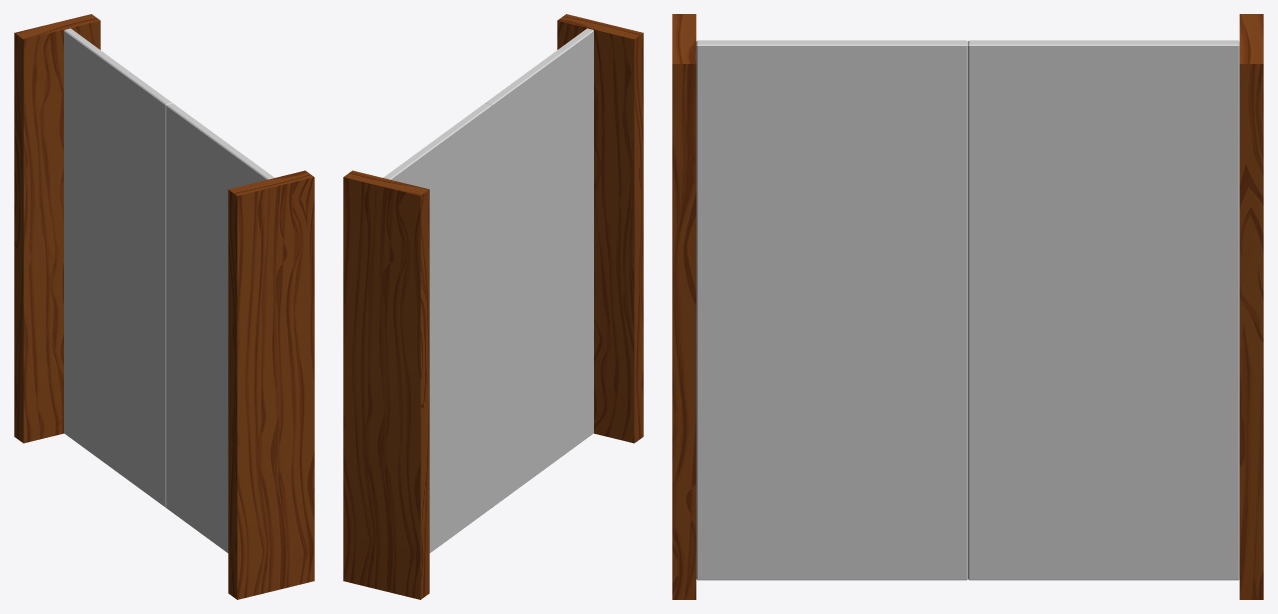
Rendered from SM_Env_GlassDoor.fbx.
The picture shows the model from 3 angles, left to right: view 1: azimuth 30°, elevation 25°; view 2: azimuth 150°, elevation 25°; view 3: azimuth 270°, elevation 25°; orthographic projection. The views are drawn at different scales.
Visible parts, largest first — view 1: SM_GlassDoor; view 2: SM_GlassDoor; view 3: SM_GlassDoor.
Boxes of the visible parts, x1,y1,x2,y2 form: SM_GlassDoor: [14, 14, 314, 599]; SM_GlassDoor: [343, 14, 643, 599]; SM_GlassDoor: [672, 14, 1263, 599].
Size of the model in its own units: 0.5 by 2.5 by 2.5.
